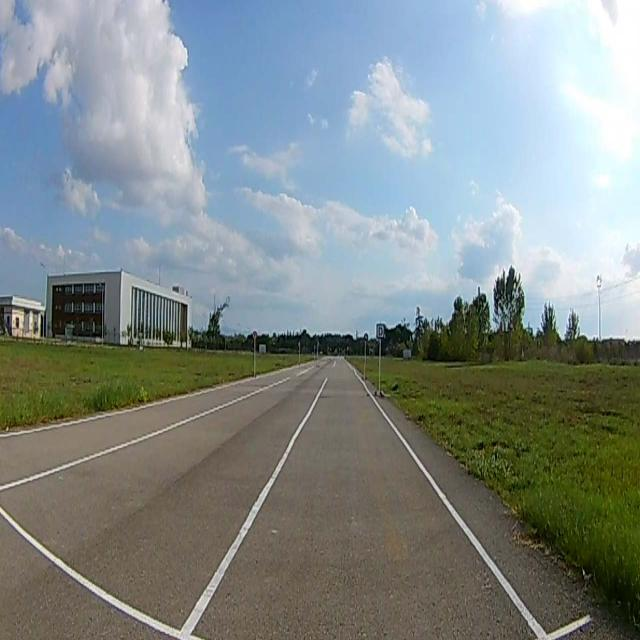durak: (378, 324, 384, 337)
